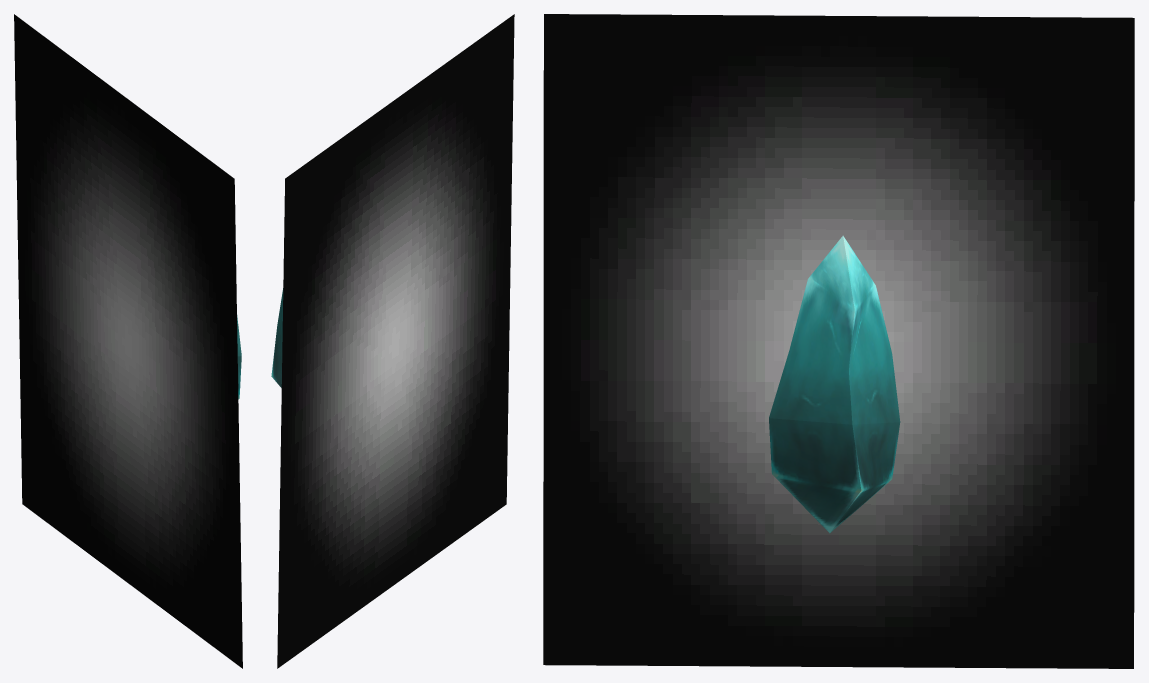
The model's file is o_crystal_large.obj.
3 views of the same model, side by side, from view 1: azimuth 30°, elevation 25°; view 2: azimuth 150°, elevation 25°; view 3: azimuth 270°, elevation 25° (orthographic). The views are drawn at different scales.
Parts seen in each view (by area): view 1: Geoset1; view 2: Geoset1, Geoset0; view 3: Geoset1, Geoset0.
Part boxes in pixels (<box>): Geoset1: <box>14,14,242,668</box>; Geoset1: <box>277,14,514,668</box>; Geoset0: <box>271,288,283,387</box>; Geoset1: <box>543,14,1134,668</box>; Geoset0: <box>769,235,900,533</box>.
Size of the model in its own units: 0.8805 by 3.4 by 2.82.
Materials: 2 (2 with a texture image).
